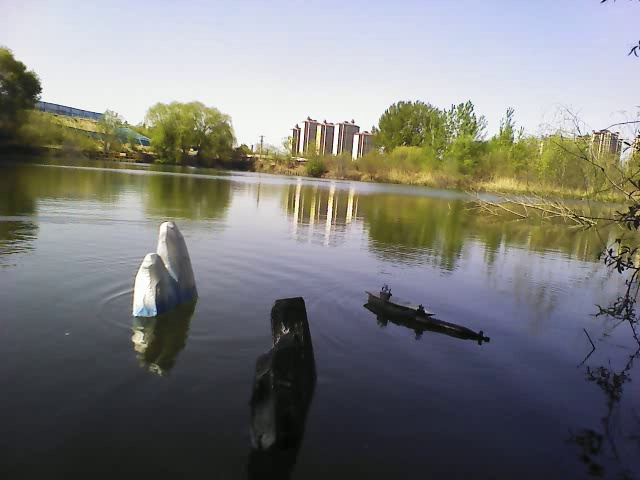aircraft_carrier: (363, 285, 437, 316)
iceberg: (130, 218, 206, 324)
rock: (244, 294, 319, 449)
submarine: (391, 311, 494, 346)
